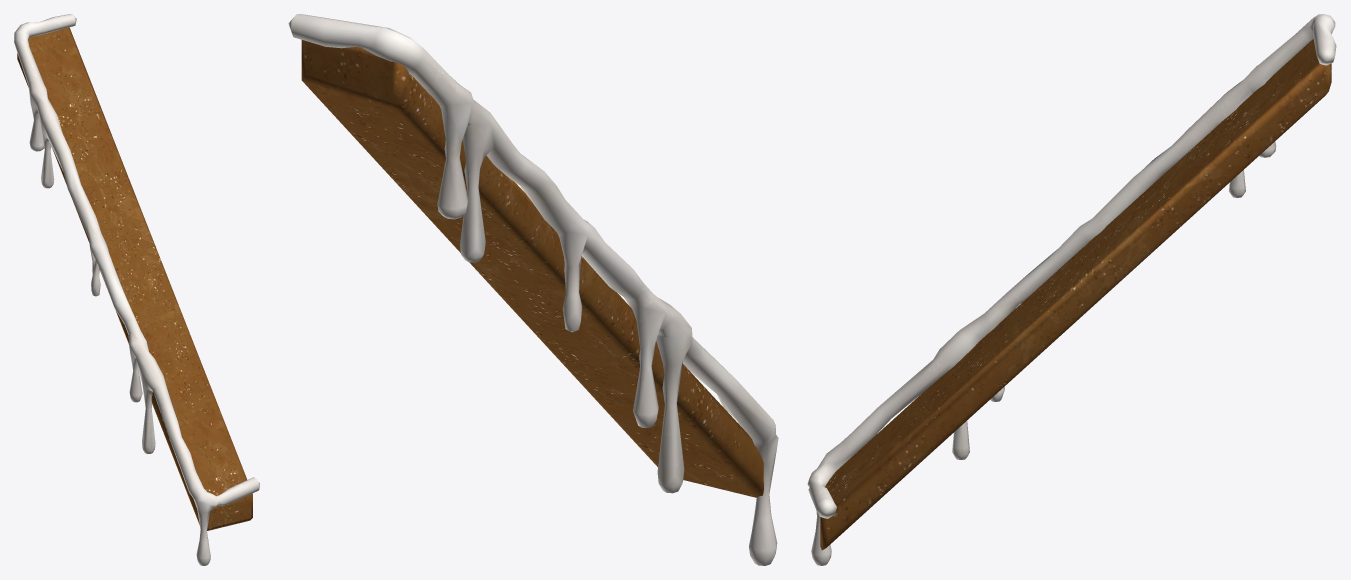
File: roof.gingerbread.left.line.glb
3 views of the same model, side by side, from view 1: azimuth 30°, elevation 25°; view 2: azimuth 150°, elevation 25°; view 3: azimuth 270°, elevation 25° (orthographic). The views are drawn at different scales.
Visible parts, largest first — view 1: roof.left.line_LOD0; view 2: roof.left.line_LOD0; view 3: roof.left.line_LOD0.
Boxes of the visible parts, x1,y1,x2,y2 form: roof.left.line_LOD0: (14,14,259,565); roof.left.line_LOD0: (288,14,778,565); roof.left.line_LOD0: (807,14,1336,565).
Bounding box in the file's own units: 0.652 × 3.6 × 3.1.
2 materials, 2 textured.
